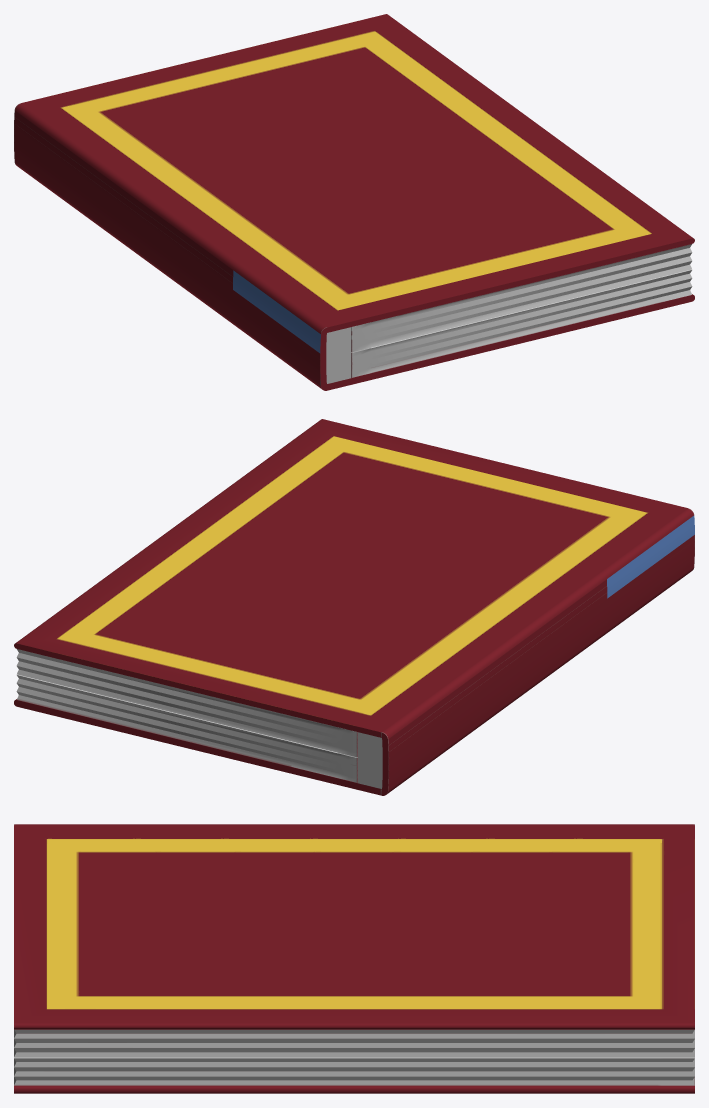
The picture shows the model from 3 angles, top to bottom: view 1: azimuth 30°, elevation 25°; view 2: azimuth 150°, elevation 25°; view 3: azimuth 270°, elevation 25°; orthographic projection. The views are drawn at different scales.
Visible parts, largest first — view 1: 红书_蓝; view 2: 红书_蓝; view 3: 红书_蓝.
Boxes of the visible parts, <box> form: 红书_蓝: <box>14,14,694,390</box>; 红书_蓝: <box>14,419,694,795</box>; 红书_蓝: <box>14,824,694,1093</box>.
Bounding box in the file's own units: 142 × 22.97 × 202.
